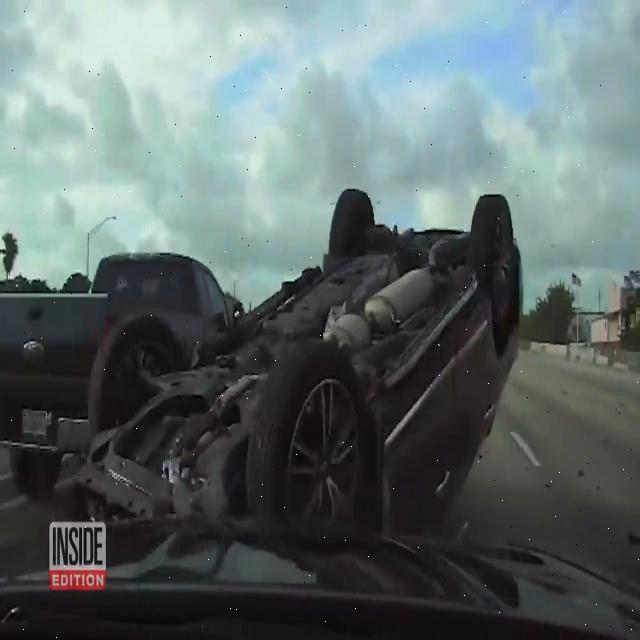accident: (79, 187, 518, 537)
